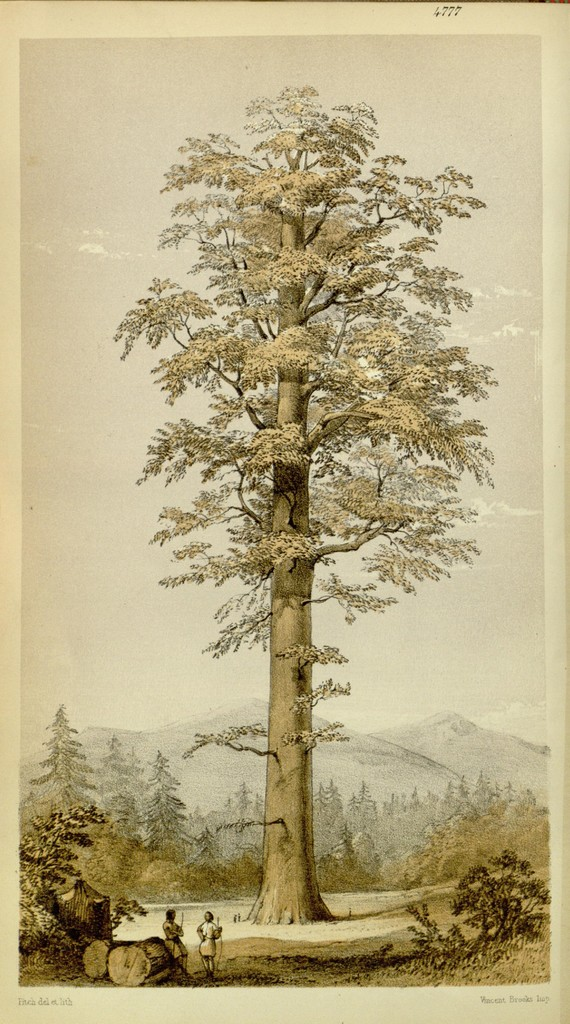Tree: (112, 80, 496, 928)
